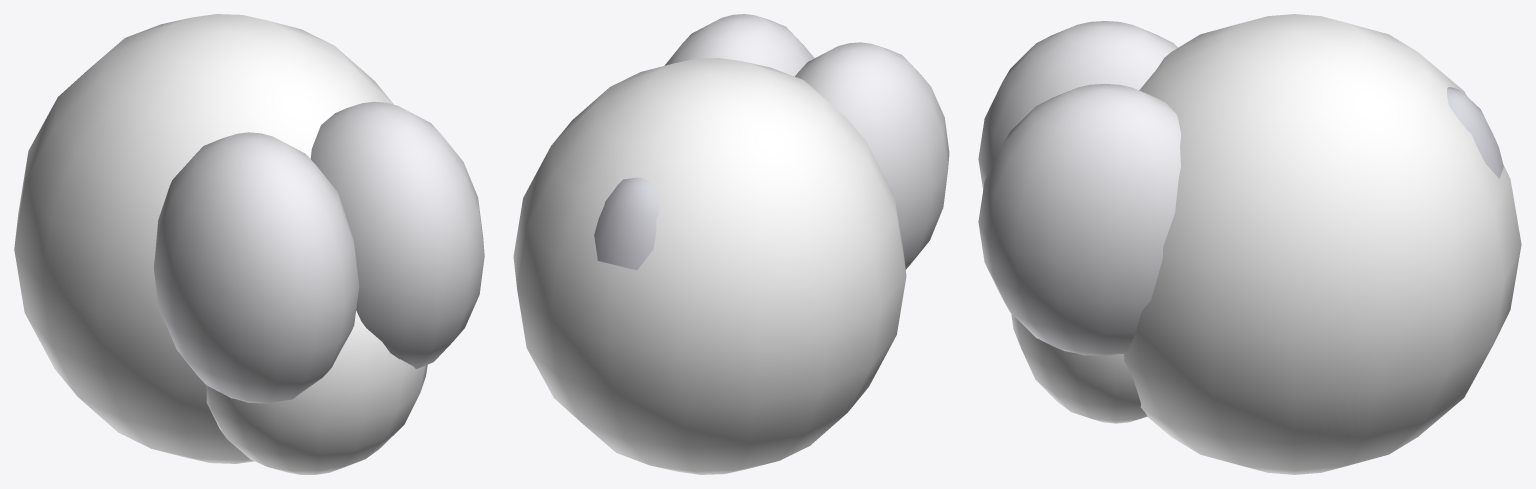
File: muscle_s3_calf.fbx
3 renders of one model, left to right at view 1: azimuth 30°, elevation 25°; view 2: azimuth 150°, elevation 25°; view 3: azimuth 270°, elevation 25°, orthographic. The views are drawn at different scales.
Parts seen in each view (by area): view 1: muscle_s3_calf; view 2: muscle_s3_calf; view 3: muscle_s3_calf.
Part boxes in pixels (left/top/right/bottom): muscle_s3_calf: left=14, top=14, right=484, bottom=474; muscle_s3_calf: left=513, top=14, right=949, bottom=474; muscle_s3_calf: left=978, top=14, right=1521, bottom=474.
Size of the model in its own units: 1.17 by 1.26 by 1.46.
1 material, 1 textured.
